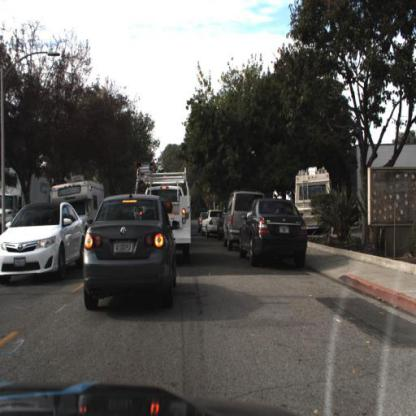car: (83, 193, 177, 313), (1, 202, 87, 284), (237, 198, 309, 270), (166, 163, 197, 271), (223, 190, 267, 254), (50, 171, 98, 221), (201, 209, 224, 240), (216, 200, 228, 246)
truck: (141, 181, 195, 260), (1, 167, 52, 241), (1, 168, 50, 245), (294, 167, 337, 245), (51, 176, 104, 236)
